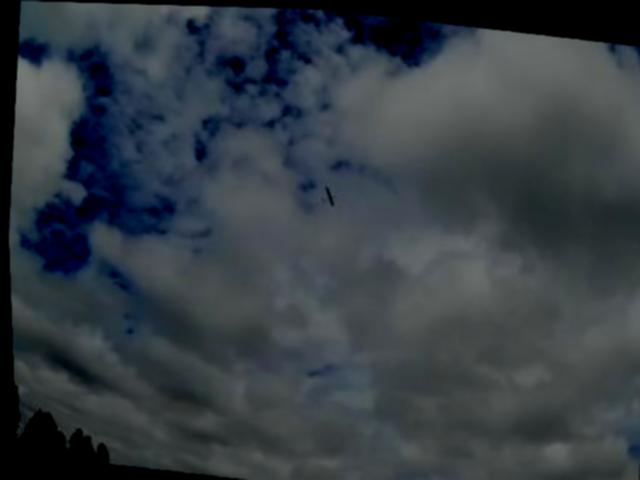uav: (312, 175, 341, 215)
